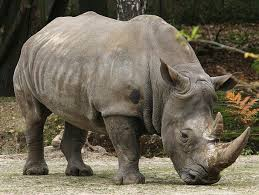Rhinoceros: (12, 10, 253, 188)
